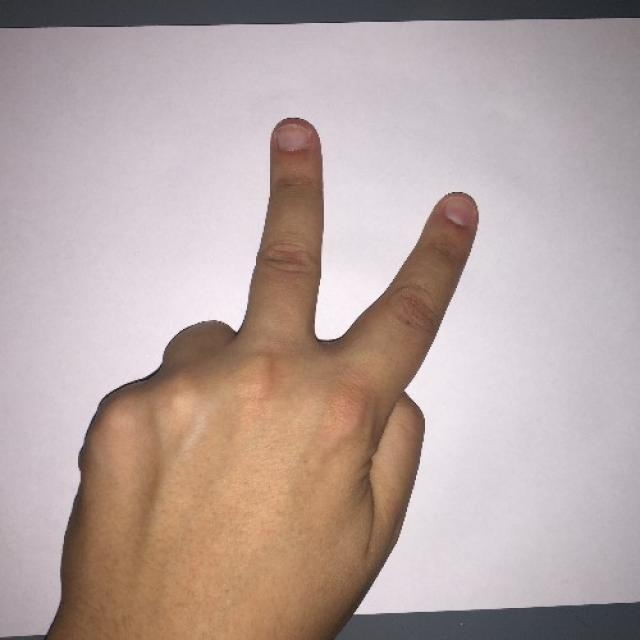scissors: (67, 114, 479, 624)
